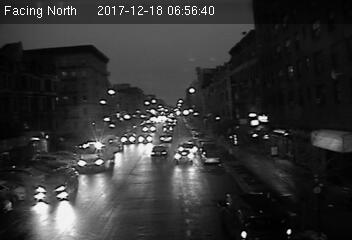car: (35, 168, 80, 203), (173, 150, 193, 166), (150, 144, 168, 160), (202, 150, 220, 163), (137, 132, 152, 145), (159, 134, 174, 144)
truck: (73, 139, 120, 170)
